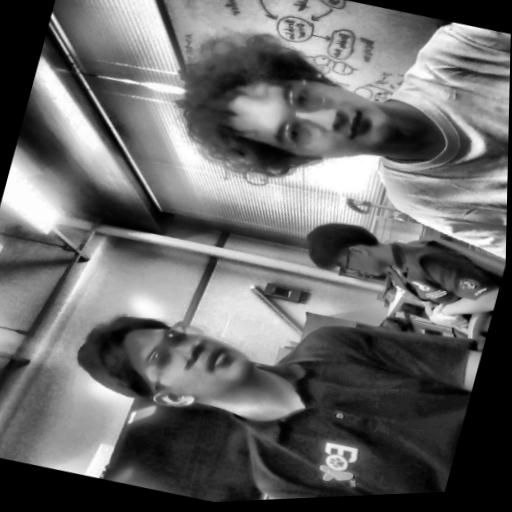Daifuku: (156, 14, 404, 210)
Not Daifuku: (65, 293, 264, 431), (292, 207, 406, 290)
